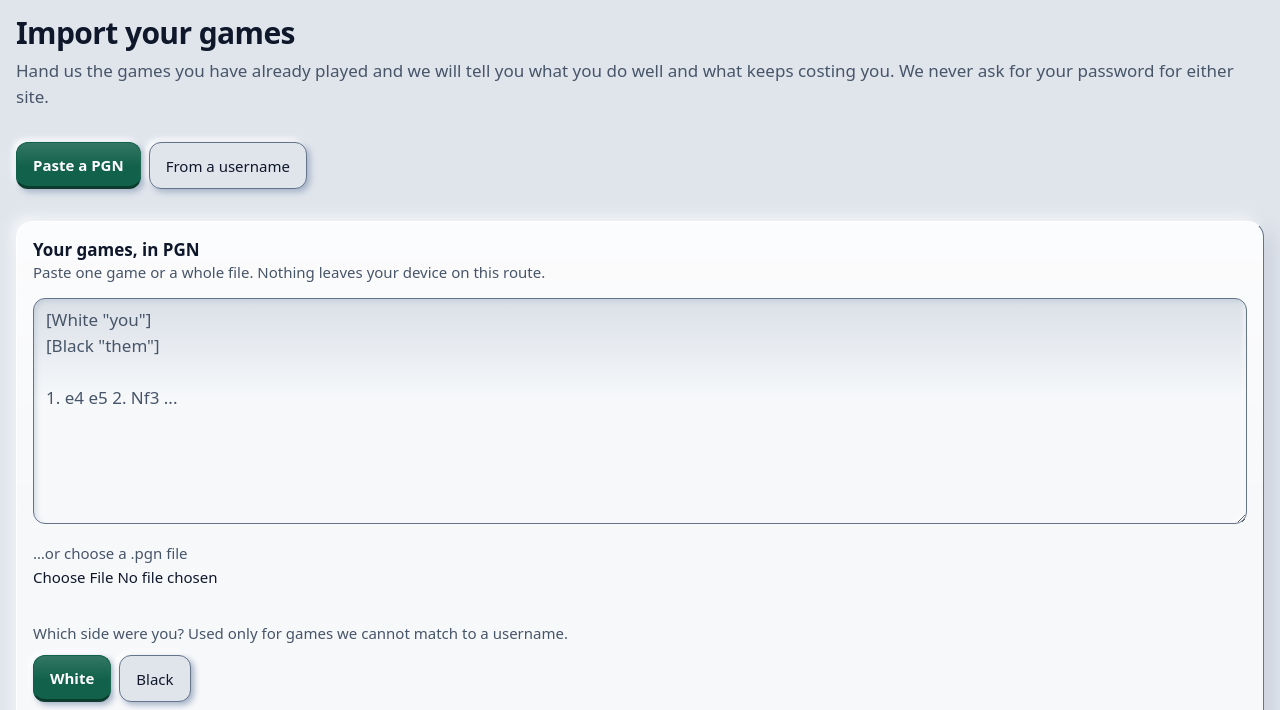
ImportScreen, the PGN paste path › no password field exists anywhere on the screen
Click the tab "From a username": point(228, 166) [149, 142, 307, 189]
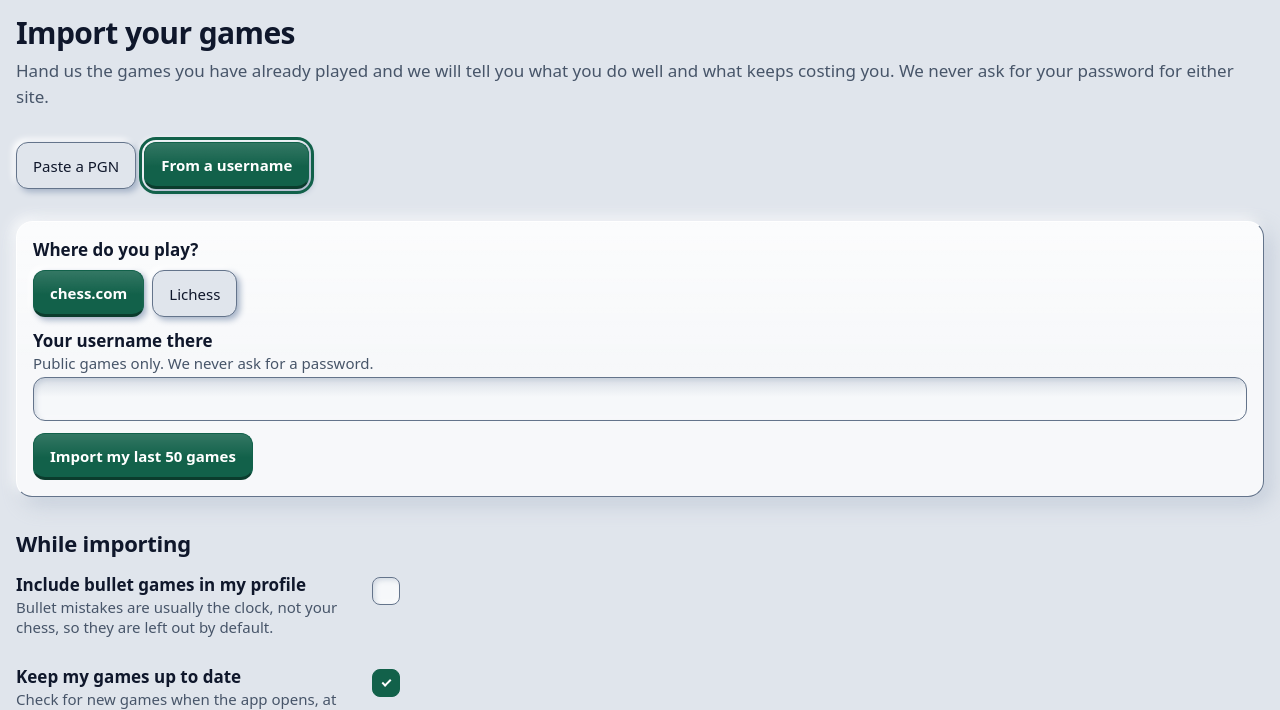
Expected: the field labelled "Your username there" is shown, [33, 377, 1247, 421]
